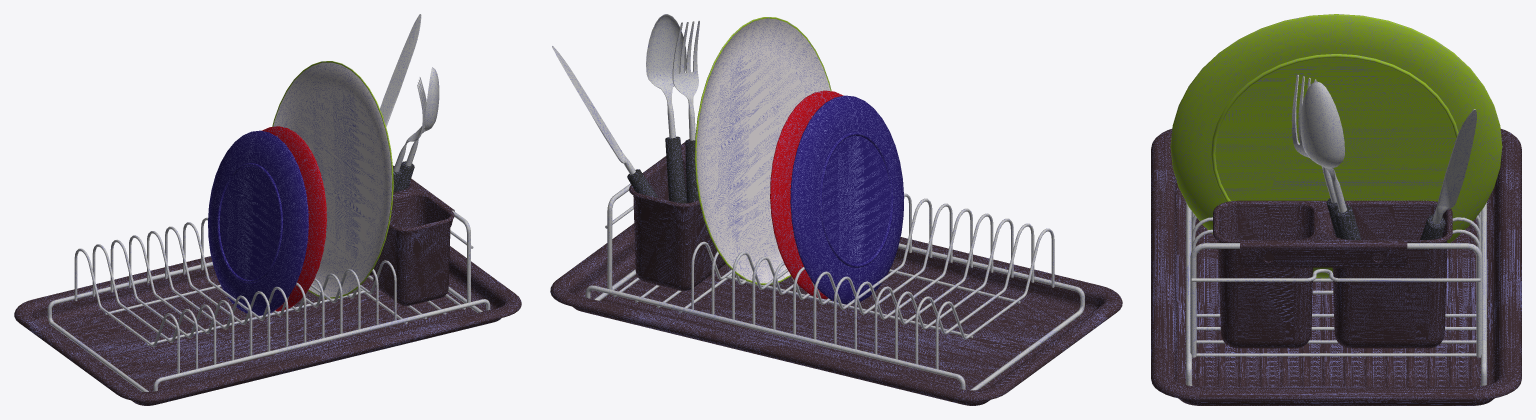
3 renders of one model, left to right at view 1: azimuth 30°, elevation 25°; view 2: azimuth 150°, elevation 25°; view 3: azimuth 270°, elevation 25°, orthographic. The views are drawn at different scales.
Parts seen in each view (by area): view 1: FF_dish_rack_plastic_base_03_FMH (×13), FF_ceramic_large_dish_green_FMH (×2), FF_ceramic_medium_dish_blue_FMH, FF_dish_rack_cup_FMH_1 (×3), Component_5 (×7), FF_ceramic_medium_dish_red_FMH, group_1, FF_dining_knife_FMH_1, FF_dining_spoon_FMH_1, FF_dining_fork_FMH_1; view 2: FF_dish_rack_plastic_base_03_FMH (×15), FF_ceramic_large_dish_green_FMH (×2), FF_ceramic_medium_dish_blue_FMH, Component_5 (×7), FF_dish_rack_cup_FMH_1 (×3), FF_ceramic_medium_dish_red_FMH, group_1, FF_dining_spoon_FMH_1 (×2), FF_dining_fork_FMH_1 (×2), FF_dining_knife_FMH_1, group_2, Group_22; view 3: FF_ceramic_large_dish_green_FMH, FF_dish_rack_plastic_base_03_FMH (×9), FF_dish_rack_cup_FMH_1 (×5), FF_dining_spoon_FMH_1 (×2), FF_dining_knife_FMH_1 (×2), group_2, group_1, Group_21 (×2), group_0, FF_dining_fork_FMH_1, Component_5 (×2).
Boxes of the visible parts, bbox=[...] form: FF_dish_rack_plastic_base_03_FMH (×13): bbox=[14, 246, 521, 405]; FF_ceramic_large_dish_green_FMH (×2): bbox=[272, 61, 393, 298]; FF_ceramic_medium_dish_blue_FMH: bbox=[208, 130, 308, 315]; FF_dish_rack_cup_FMH_1 (×3): bbox=[373, 165, 454, 305]; Component_5 (×7): bbox=[74, 222, 288, 373]; FF_ceramic_medium_dish_red_FMH: bbox=[261, 126, 326, 311]; group_1: bbox=[47, 262, 490, 391]; FF_dining_knife_FMH_1: bbox=[380, 14, 421, 126]; FF_dining_spoon_FMH_1: bbox=[405, 67, 439, 166]; FF_dining_fork_FMH_1: bbox=[393, 77, 426, 172]; FF_dish_rack_plastic_base_03_FMH (×15): bbox=[550, 223, 1122, 405]; FF_ceramic_large_dish_green_FMH (×2): bbox=[694, 17, 831, 284]; FF_ceramic_medium_dish_blue_FMH: bbox=[790, 95, 904, 304]; Component_5 (×7): bbox=[813, 198, 1054, 369]; FF_dish_rack_cup_FMH_1 (×3): bbox=[629, 139, 725, 291]; FF_ceramic_medium_dish_red_FMH: bbox=[770, 90, 843, 299]; group_1: bbox=[585, 243, 1084, 390]; FF_dining_spoon_FMH_1 (×2): bbox=[646, 14, 686, 203]; FF_dining_fork_FMH_1 (×2): bbox=[672, 20, 699, 202]; FF_dining_knife_FMH_1: bbox=[552, 46, 635, 174]; group_2: bbox=[607, 183, 631, 289]; Group_22: bbox=[725, 276, 973, 338]; FF_ceramic_large_dish_green_FMH: bbox=[1170, 14, 1502, 278]; FF_dish_rack_plastic_base_03_FMH (×9): bbox=[1151, 129, 1521, 405]; FF_dish_rack_cup_FMH_1 (×5): bbox=[1213, 200, 1452, 348]; FF_dining_spoon_FMH_1 (×2): bbox=[1300, 81, 1361, 239]; FF_dining_knife_FMH_1 (×2): bbox=[1420, 109, 1476, 239]; group_2: bbox=[1190, 243, 1482, 357]; group_1: bbox=[1186, 202, 1486, 385]; Group_21 (×2): bbox=[1196, 340, 1476, 356]; group_0: bbox=[1191, 269, 1480, 281]; FF_dining_fork_FMH_1: bbox=[1291, 75, 1336, 203]; Component_5 (×2): bbox=[1191, 217, 1481, 294].
Size of the model in its own units: 20.74 by 11.88 by 11.53.
